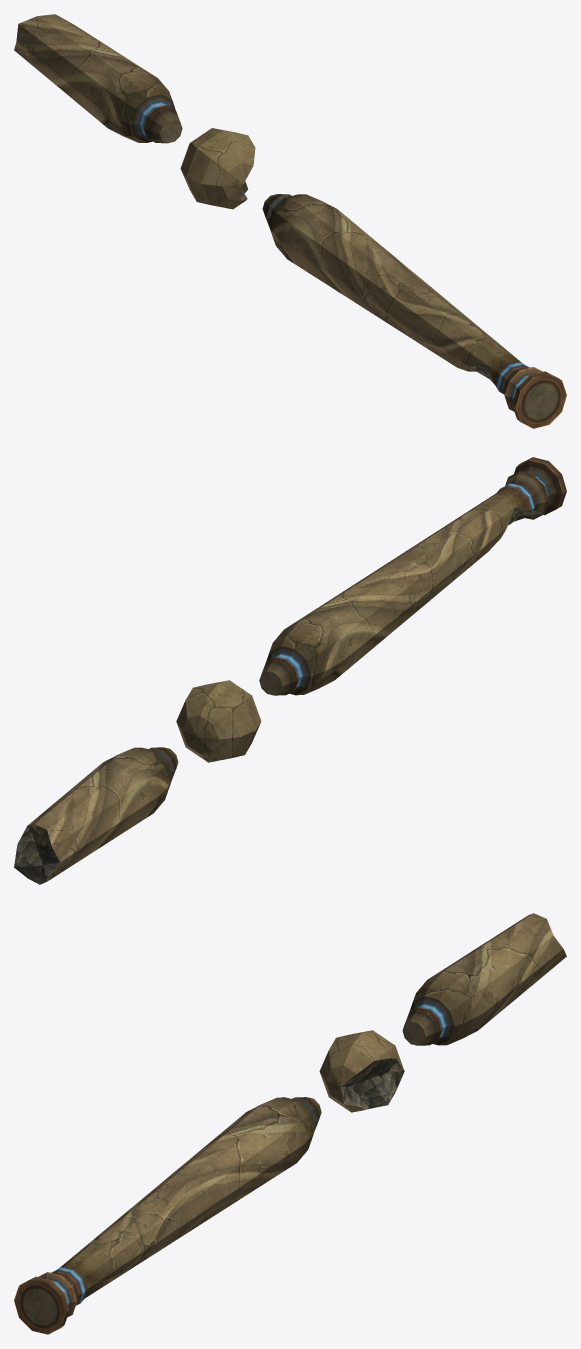
File: juqing_yewai_562_zhuzi02b.obj
The picture shows the model from 3 angles, top to bottom: view 1: azimuth 30°, elevation 25°; view 2: azimuth 150°, elevation 25°; view 3: azimuth 330°, elevation 25°; orthographic projection.
Parts seen in each view (by area): view 1: Object01, Object02, juqing_yewai_562_zhuzi02a; view 2: Object01, Object02, juqing_yewai_562_zhuzi02a; view 3: Object01, Object02, juqing_yewai_562_zhuzi02a.
Part boxes in pixels (left/top/right/bottom): Object01: left=262, top=194, right=566, bottom=428; Object02: left=14, top=14, right=182, bottom=143; juqing_yewai_562_zhuzi02a: left=180, top=128, right=255, bottom=209; Object01: left=259, top=457, right=566, bottom=695; Object02: left=14, top=747, right=178, bottom=884; juqing_yewai_562_zhuzi02a: left=176, top=680, right=261, bottom=762; Object01: left=14, top=1097, right=321, bottom=1334; Object02: left=402, top=913, right=566, bottom=1045; juqing_yewai_562_zhuzi02a: left=319, top=1030, right=404, bottom=1112.
Size of the model in its own units: 334 by 358 by 4322.
Materials: 2 (2 with a texture image).
